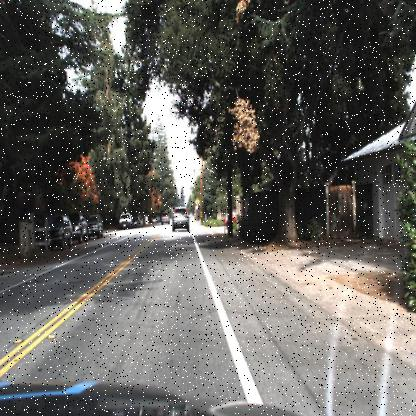car: (37, 211, 74, 254), (35, 216, 75, 250), (69, 211, 89, 245), (71, 208, 89, 245), (218, 206, 240, 234), (171, 205, 191, 235), (114, 205, 136, 232), (85, 212, 105, 241), (88, 212, 105, 240), (118, 211, 133, 231), (159, 206, 171, 228)
